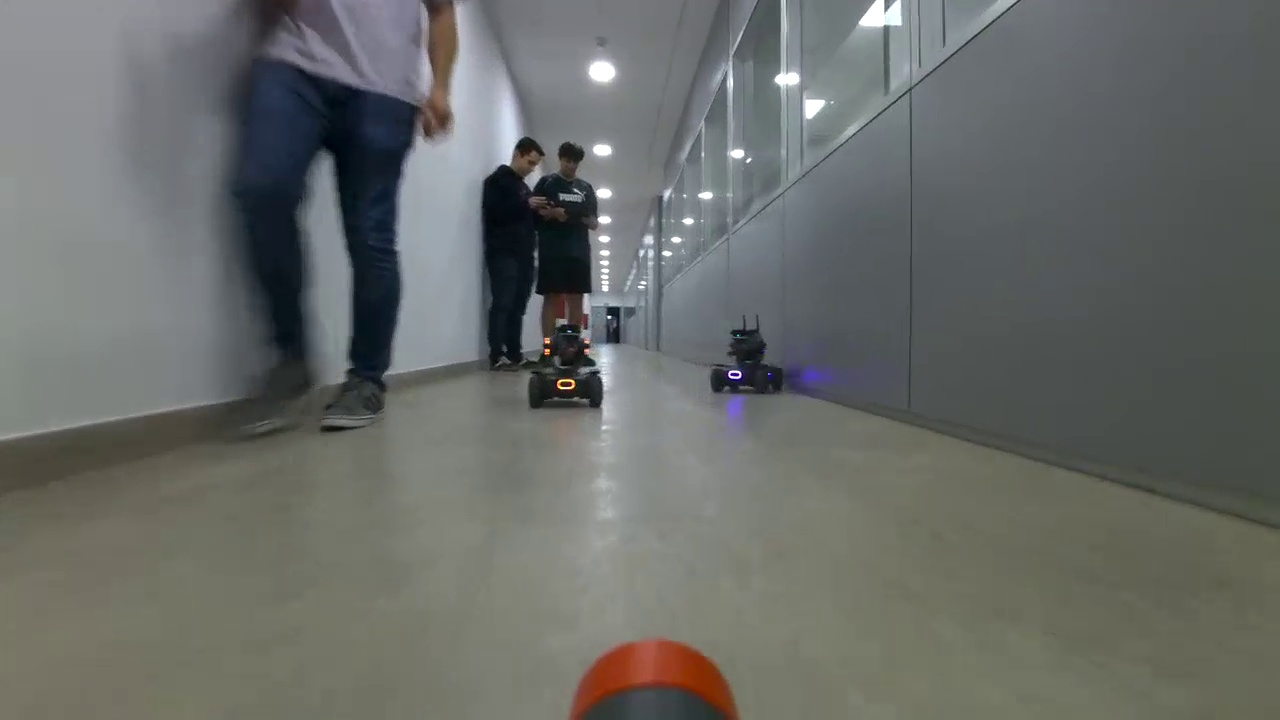robot: (528, 321, 605, 410), (709, 328, 786, 395)
